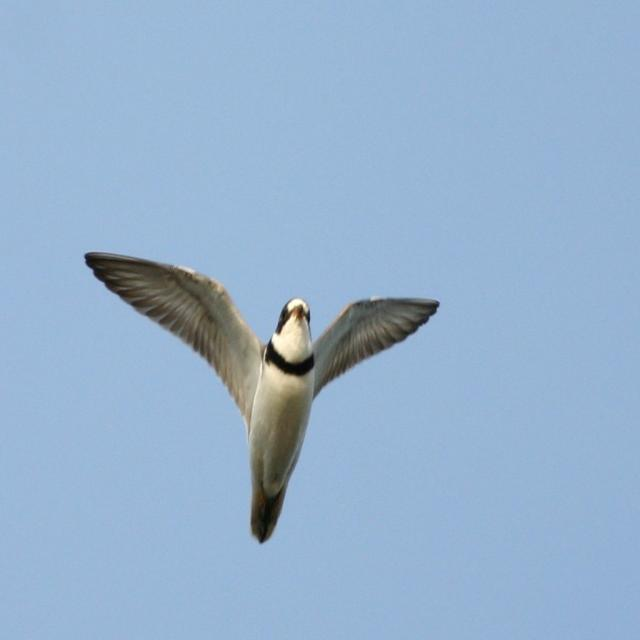bird: (79, 236, 457, 556)
